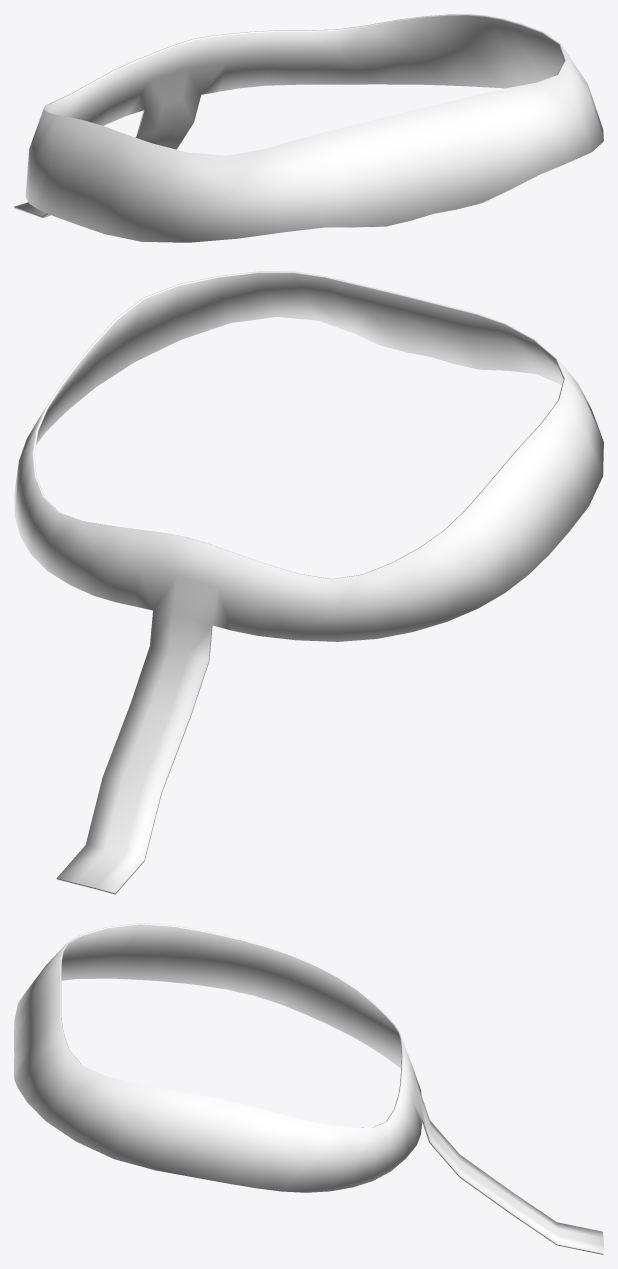
The model's file is hachimaki.obj.
3 renders of one model, top to bottom at view 1: azimuth 30°, elevation 25°; view 2: azimuth 150°, elevation 25°; view 3: azimuth 270°, elevation 25°, orthographic. The views are drawn at different scales.
Visible parts, largest first — view 1: face.001_Cube.001; view 2: face.001_Cube.001; view 3: face.001_Cube.001.
Boxes of the visible parts, x1=… form: face.001_Cube.001: x1=14, y1=14, x2=603, y2=242; face.001_Cube.001: x1=14, y1=271, x2=603, y2=894; face.001_Cube.001: x1=14, y1=923, x2=603, y2=1254.
Bounding box in the file's own units: 0.9902 × 0.6285 × 1.27.
